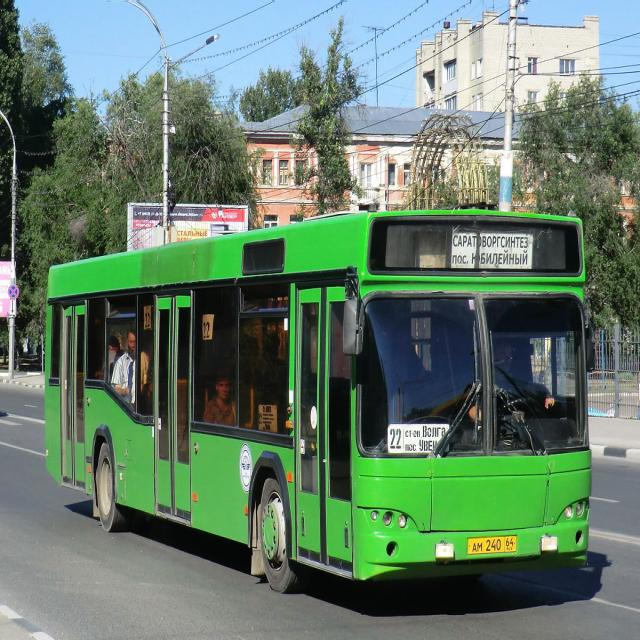number-of-bus: (389, 427, 405, 450)
